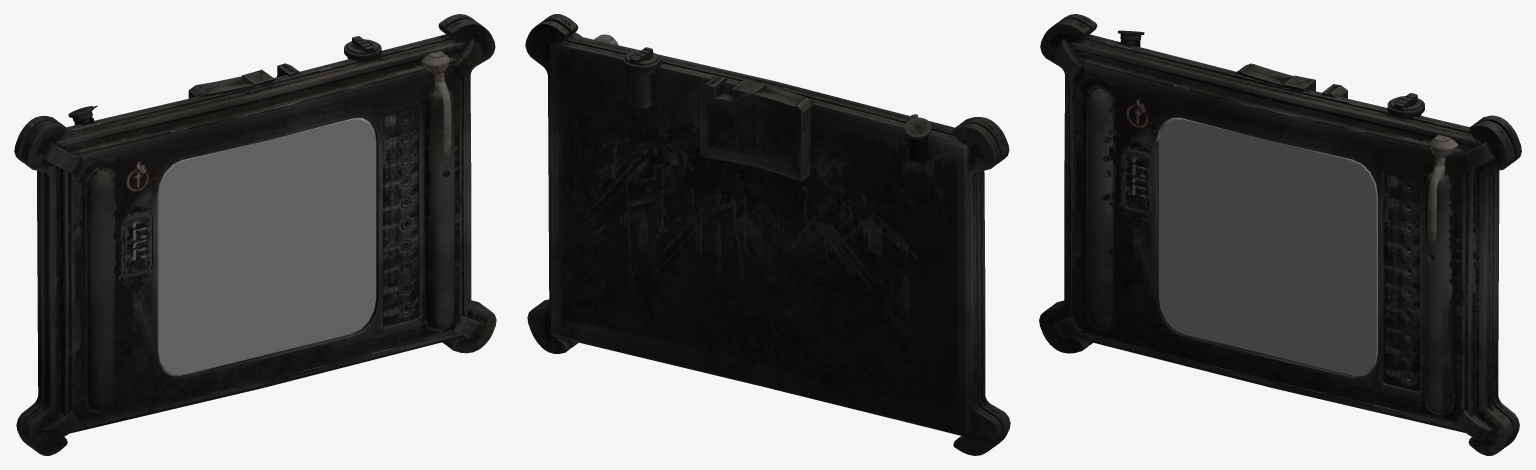
File: heartbeat_sensor.glb
3 renders of one model, left to right at view 1: azimuth 30°, elevation 25°; view 2: azimuth 150°, elevation 25°; view 3: azimuth 330°, elevation 25°, orthographic.
Visible parts, largest first — view 1: Object_3, Object_7, Object_5, Object_6, Object_4, Object_2; view 2: Object_3, Object_5, Object_4; view 3: Object_3, Object_7, Object_5, Object_6, Object_2, Object_4.
Part boxes in pixels (box(x1,y1,x2,y2)): Object_3: box(14, 14, 496, 455); Object_7: box(157, 118, 376, 375); Object_5: box(21, 19, 490, 452); Object_6: box(383, 105, 418, 326); Object_4: box(44, 40, 450, 441); Object_2: box(421, 51, 451, 157); Object_3: box(525, 18, 1004, 455); Object_5: box(539, 14, 1010, 446); Object_4: box(622, 49, 927, 161); Object_3: box(1039, 14, 1521, 455); Object_7: box(1156, 117, 1377, 375); Object_5: box(1045, 19, 1514, 452); Object_6: box(1384, 170, 1420, 391); Object_2: box(1428, 135, 1458, 241); Object_4: box(1054, 33, 1434, 382).
Bounding box in the file's own units: 373 × 250 × 55.77.
Materials: 3 (3 with a texture image).
